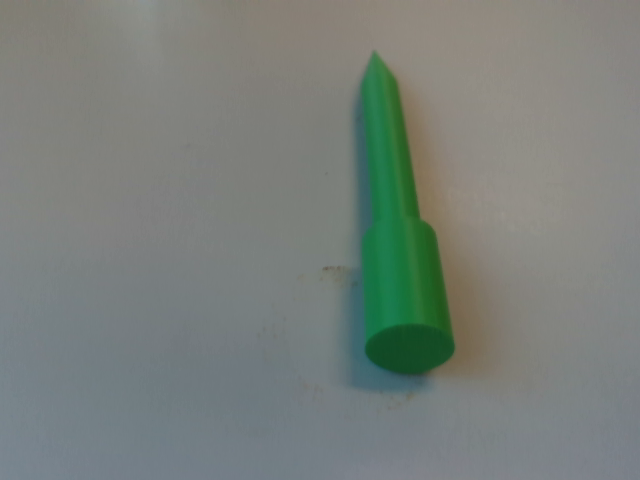Probe: (348, 43, 464, 394)
